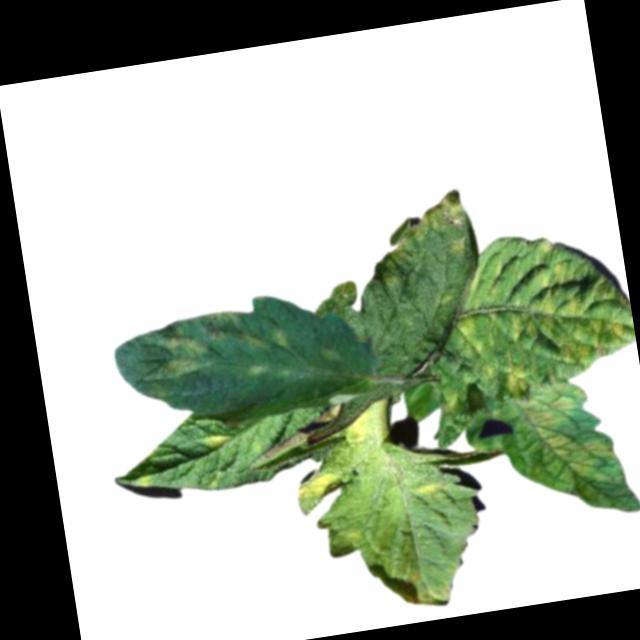Leaf_Mold: (440, 222, 631, 381), (498, 373, 640, 531), (369, 186, 473, 270), (144, 324, 219, 384), (397, 564, 457, 612), (293, 469, 353, 505), (241, 319, 294, 355), (499, 356, 533, 400), (411, 479, 450, 506), (198, 430, 236, 454)
